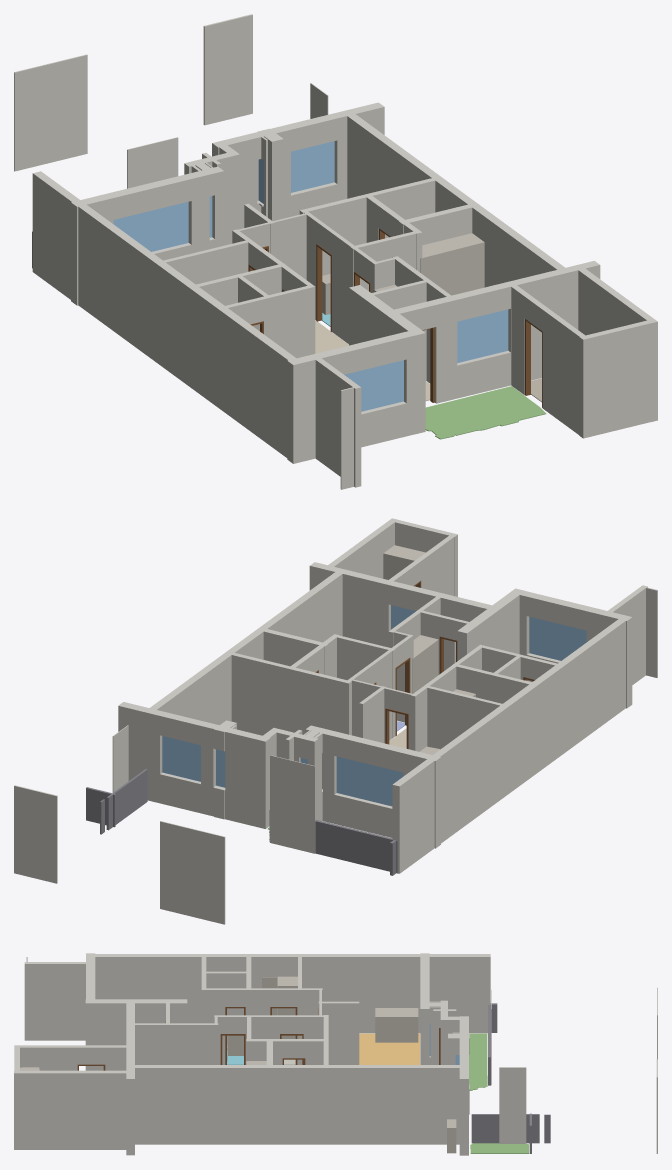
The picture shows the model from 3 angles, top to bottom: view 1: azimuth 30°, elevation 25°; view 2: azimuth 150°, elevation 25°; view 3: azimuth 270°, elevation 25°; orthographic projection. The views are drawn at different scales.
Visible parts, largest first — view 1: walls, floor_14_Outdoor, furniture_3_closet, window_2, window_3, window_1, window_14, door_8; view 2: walls, railings, window_2, window_1, window_14, furniture_5_closet, furniture_6_closet; view 3: walls, railings, floor_1_Kitchen, furniture_8_appliance, floor_13_Outdoor, floor_12_Outdoor, furniture_0_closet, furniture_7_appliance, furniture_17_sink.
Part boxes in pixels (box(x1,y1,x2,y2)): walls: box(14, 14, 657, 489); floor_14_Outdoor: box(425, 386, 546, 439); furniture_3_closet: box(420, 233, 484, 295); window_2: box(113, 201, 188, 251); window_3: box(457, 309, 508, 362); window_1: box(344, 360, 403, 411); window_14: box(291, 141, 334, 192); door_8: box(316, 244, 331, 331); walls: box(14, 518, 657, 924); railings: box(86, 769, 397, 875); window_2: box(336, 756, 403, 806); window_1: box(529, 616, 586, 660); window_14: box(162, 736, 200, 781); furniture_5_closet: box(412, 635, 438, 693); furniture_6_closet: box(383, 545, 425, 586); walls: box(14, 953, 657, 1155); railings: box(471, 1003, 550, 1153); floor_1_Kitchen: box(359, 1033, 419, 1064); furniture_8_appliance: box(375, 1008, 418, 1042); floor_13_Outdoor: box(469, 1033, 487, 1090); floor_12_Outdoor: box(470, 1143, 528, 1153); furniture_0_closet: box(277, 976, 297, 1038); furniture_7_appliance: box(447, 1119, 456, 1153); furniture_17_sink: box(228, 1035, 243, 1055).
Bounding box in the file's own units: 9.52 × 2.72 × 20.62.
